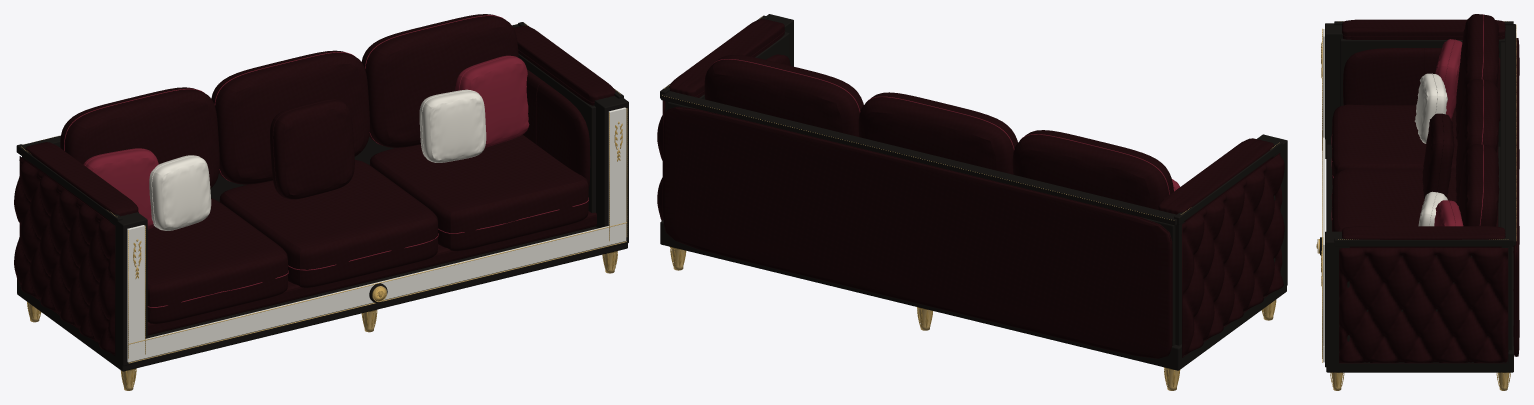
The picture shows the model from 3 angles, left to right: view 1: azimuth 30°, elevation 25°; view 2: azimuth 150°, elevation 25°; view 3: azimuth 270°, elevation 25°; orthographic projection. The views are drawn at different scales.
Parts seen in each view (by area): view 1: Wellington burgundy three-seat sofa | 50490.0 | burgundy-7 w; view 2: Wellington burgundy three-seat sofa | 50490.0 | burgundy-7 w; view 3: Wellington burgundy three-seat sofa | 50490.0 | burgundy-7 w.
Boxes of the visible parts, x1,y1,x2,y2 form: Wellington burgundy three-seat sofa | 50490.0 | burgundy-7 w: (14,14,628,390); Wellington burgundy three-seat sofa | 50490.0 | burgundy-7 w: (657,14,1287,390); Wellington burgundy three-seat sofa | 50490.0 | burgundy-7 w: (1316,14,1519,390).
Bounding box in the file's own units: 2.5 × 0.9501 × 0.9501.
7 materials, 1 textured.
